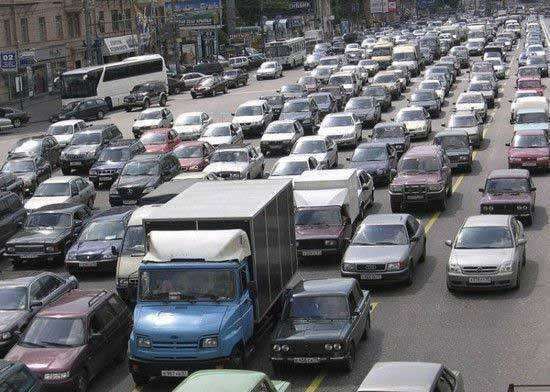car: (443, 213, 527, 294), (341, 213, 426, 286), (316, 111, 362, 144), (393, 106, 432, 138)
microbus: (52, 53, 168, 118)
suv: (387, 144, 451, 213), (229, 99, 270, 136)
truck: (127, 178, 295, 384), (290, 168, 362, 262), (391, 44, 422, 75)
